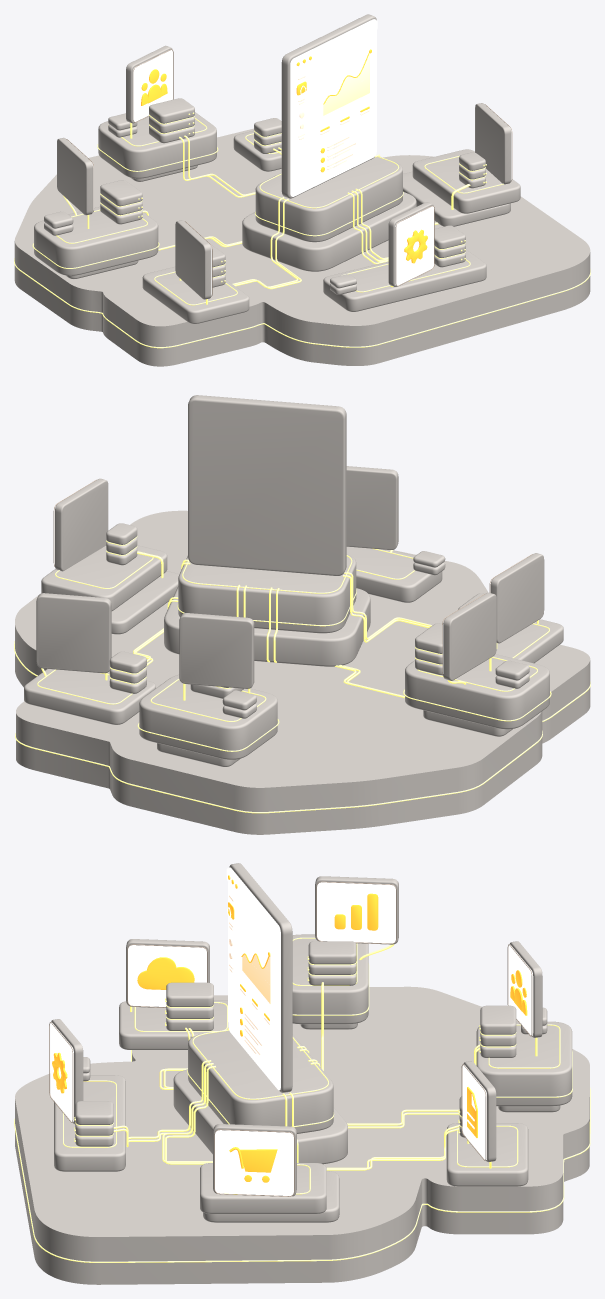
The model's file is dashboard.glb.
3 views of the same model, one above another, from view 1: azimuth 30°, elevation 25°; view 2: azimuth 150°, elevation 25°; view 3: azimuth 270°, elevation 25° (orthographic). The views are drawn at different scales.
Bounding box in the file's own units: 12.67 × 6.55 × 12.05.
